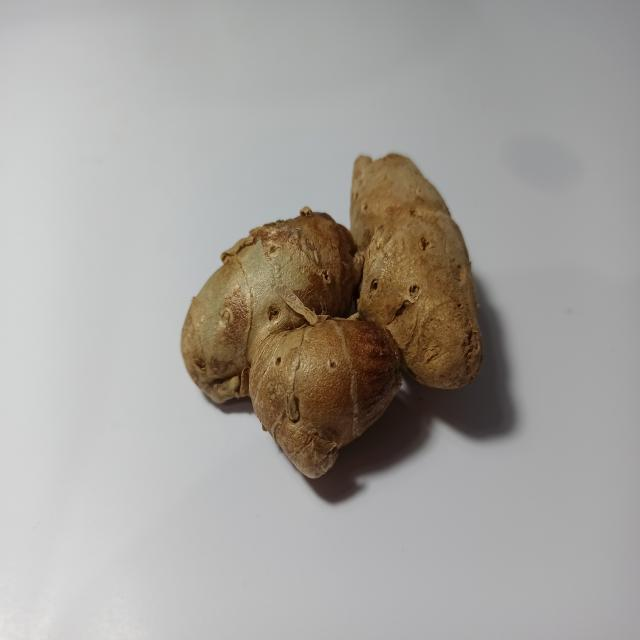ginger: (184, 142, 482, 468)
